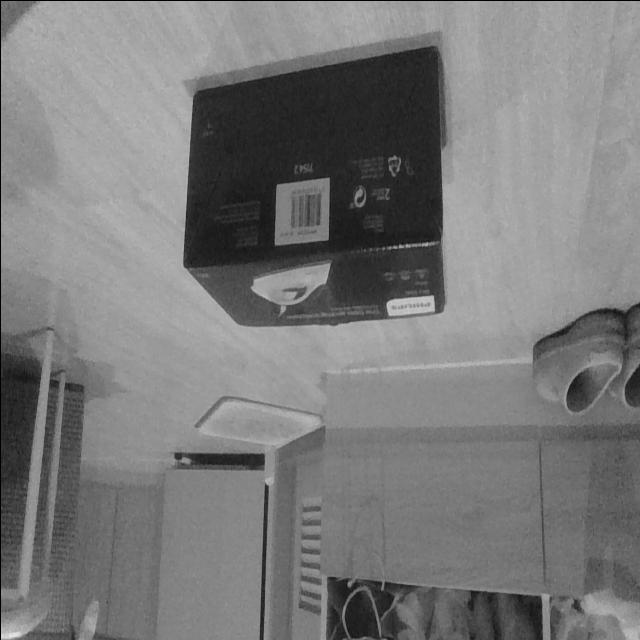IRON: (180, 42, 448, 330)
